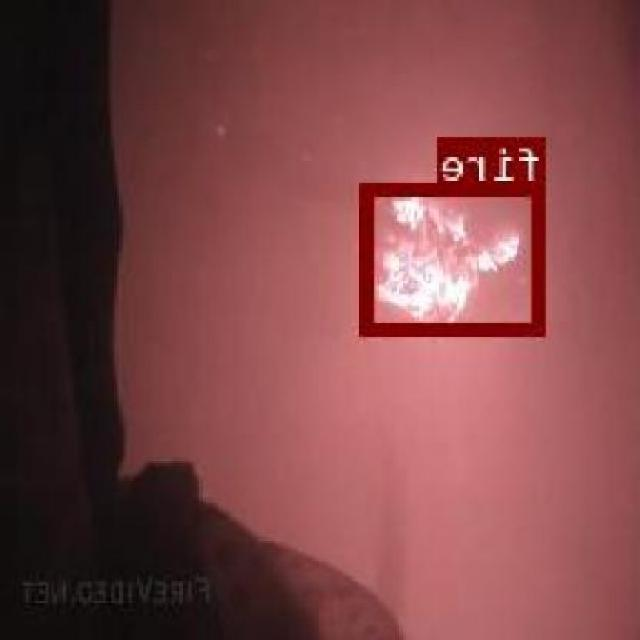Fire: (364, 182, 548, 331)
